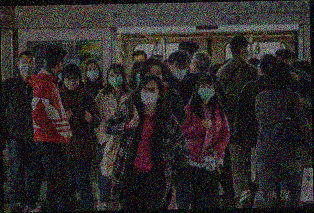with_mask: (140, 85, 161, 107), (19, 57, 38, 77), (198, 83, 217, 102), (172, 62, 191, 80), (62, 75, 82, 92), (107, 71, 125, 89), (144, 68, 164, 84), (85, 66, 101, 83), (134, 69, 144, 87)
